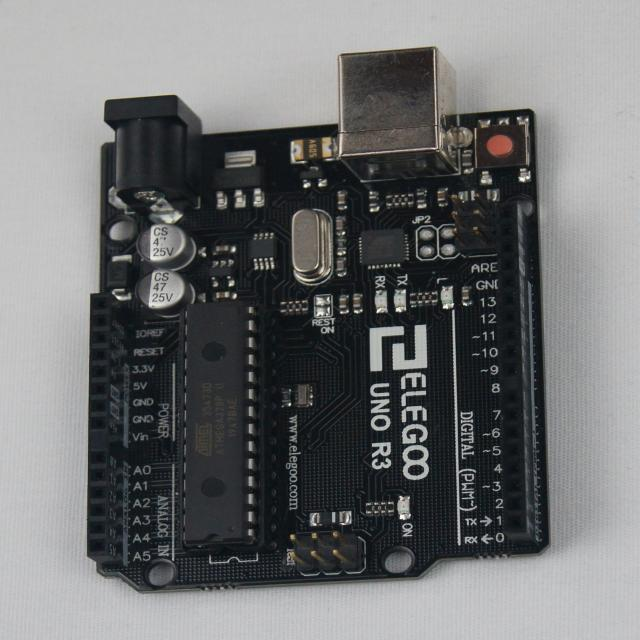Arduino Uno -Black-: (88, 48, 549, 592)
